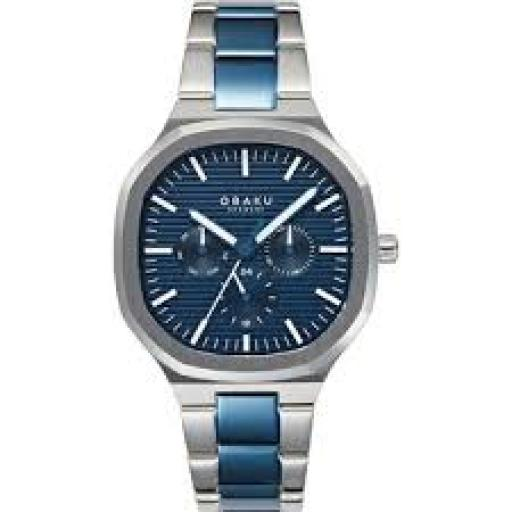KolSaati: (87, 0, 403, 512)
